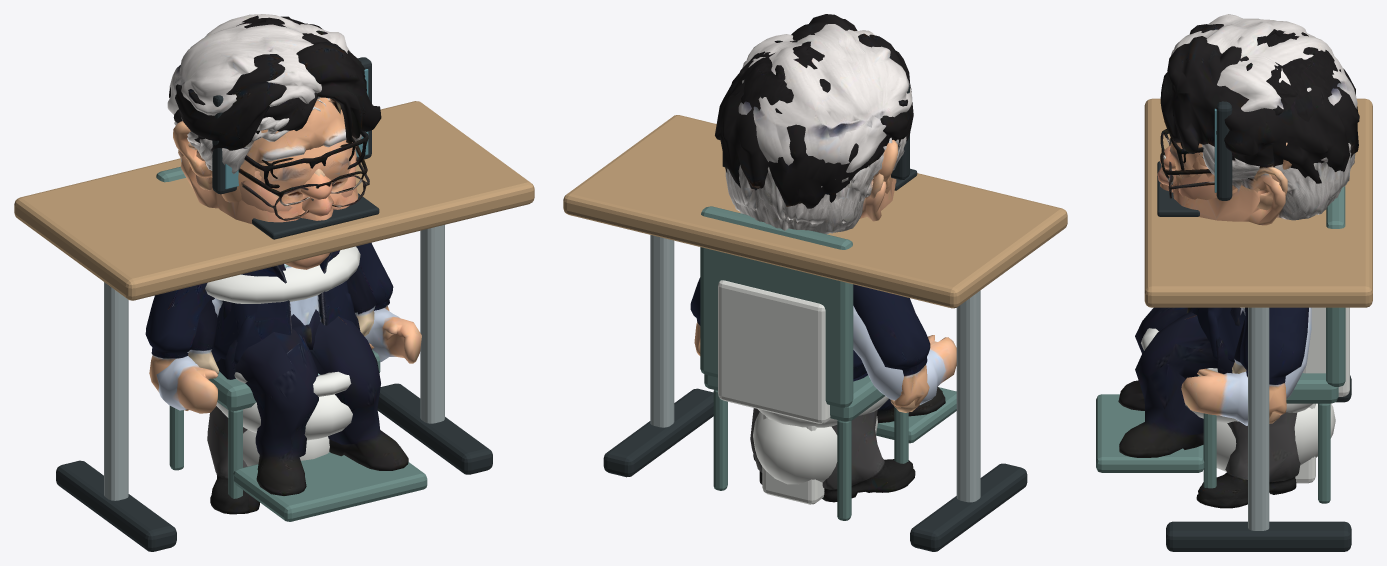
Rendered from school-residents.glb.
3 views of the same model, side by side, from view 1: azimuth 30°, elevation 25°; view 2: azimuth 150°, elevation 25°; view 3: azimuth 270°, elevation 25° (orthographic). The views are drawn at different scales.
Visible parts, largest first — view 1: desktop, duty-resident body, gate-resident body, principal-resident body, desk foot, adjustable leg, footrest, vice-principal-resident body, basin, cistern, chair seat, chair leg (+1 smaller); view 2: desktop, gate-resident body, cistern, chair back, duty-resident body, principal-resident body, adjustable leg, desk foot, vice-principal-resident body, chair leg.001, chair leg.003, footrest (+3 smaller); view 3: desktop, duty-resident body, gate-resident body, principal-resident body, desk foot, adjustable leg, cistern, footrest, vice-principal-resident body, chair back, chair leg.003, chair seat (+2 smaller).
Boxes of the visible parts, <box> form: desktop: <box>14,101,534,300</box>; duty-resident body: <box>156,98,421,495</box>; gate-resident body: <box>145,14,393,514</box>; principal-resident body: <box>169,33,381,513</box>; desk foot: <box>56,57,492,551</box>; adjustable leg: <box>104,225,444,500</box>; footrest: <box>233,452,427,521</box>; vice-principal-resident body: <box>188,15,376,374</box>; basin: <box>205,246,360,303</box>; cistern: <box>216,371,352,466</box>; chair seat: <box>209,350,380,410</box>; chair leg: <box>228,409,242,498</box>; desktop: <box>563,115,1067,308</box>; gate-resident body: <box>690,24,930,502</box>; cistern: <box>718,280,888,484</box>; chair back: <box>700,206,853,407</box>; duty-resident body: <box>725,137,956,423</box>; principal-resident body: <box>715,14,919,500</box>; adjustable leg: <box>650,235,980,502</box>; desk foot: <box>603,84,1027,551</box>; vice-principal-resident body: <box>727,40,872,492</box>; chair leg.001: <box>837,420,851,520</box>; chair leg.003: <box>713,390,727,490</box>; footrest: <box>876,387,956,443</box>; desktop: <box>1144,98,1372,307</box>; duty-resident body: <box>1118,138,1355,457</box>; gate-resident body: <box>1160,14,1357,508</box>; principal-resident body: <box>1157,24,1359,484</box>; desk foot: <box>1157,101,1351,551</box>; adjustable leg: <box>1248,307,1269,530</box>; cistern: <box>1141,307,1349,471</box>; footrest: <box>1096,394,1204,472</box>; vice-principal-resident body: <box>1170,29,1340,493</box>; chair back: <box>1326,186,1345,386</box>; chair leg.003: <box>1318,403,1330,503</box>; chair seat: <box>1198,373,1338,403</box>.
Bounding box in the file's own units: 1.6 × 1.7 × 0.97.
11 materials, 4 textured.
